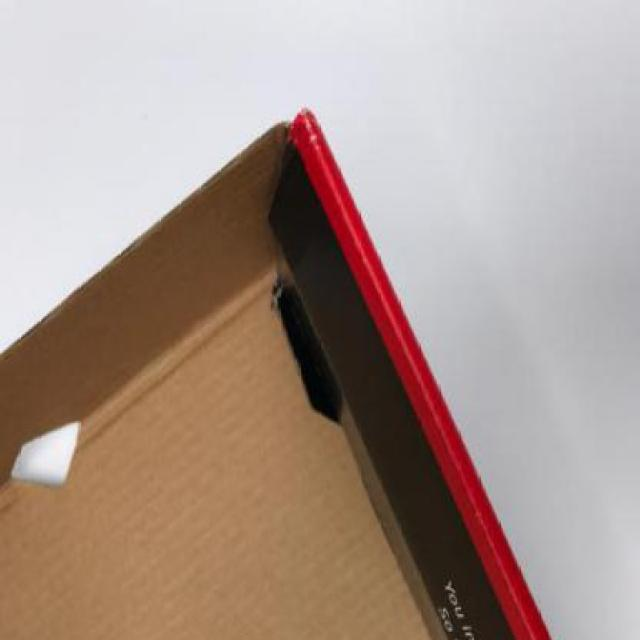box: (3, 102, 575, 640)
